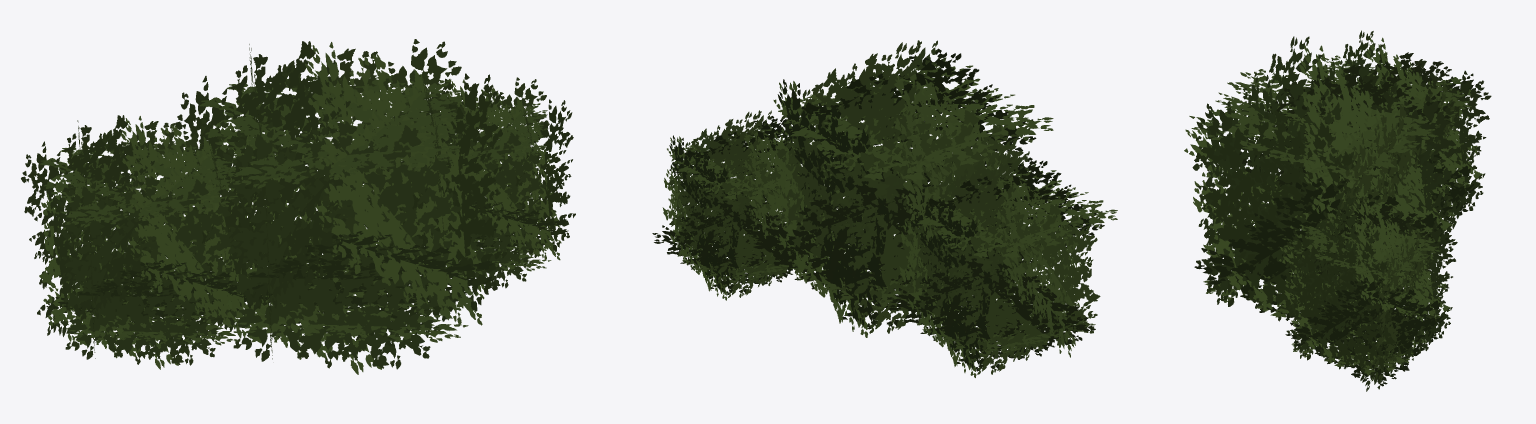
The model's file is bush_b.glb.
3 renders of one model, left to right at view 1: azimuth 30°, elevation 25°; view 2: azimuth 150°, elevation 25°; view 3: azimuth 270°, elevation 25°, orthographic. The views are drawn at different scales.
Parts seen in each view (by area): view 1: Object_28; view 2: Object_28; view 3: Object_28.
Boxes of the visible parts, box(x1,y1,x2,y2) form: Object_28: box(21, 39, 575, 374); Object_28: box(652, 40, 1117, 377); Object_28: box(1184, 30, 1491, 391).
Size of the model in its own units: 5.3 by 3.69 by 3.49.
1 material, 1 textured.
